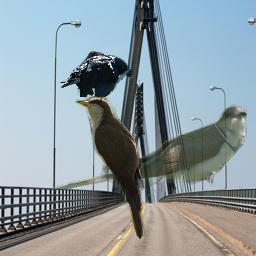Crow: (80, 55, 133, 97), (58, 51, 104, 96)
Cuckoo: (50, 104, 247, 194), (75, 96, 147, 242)
